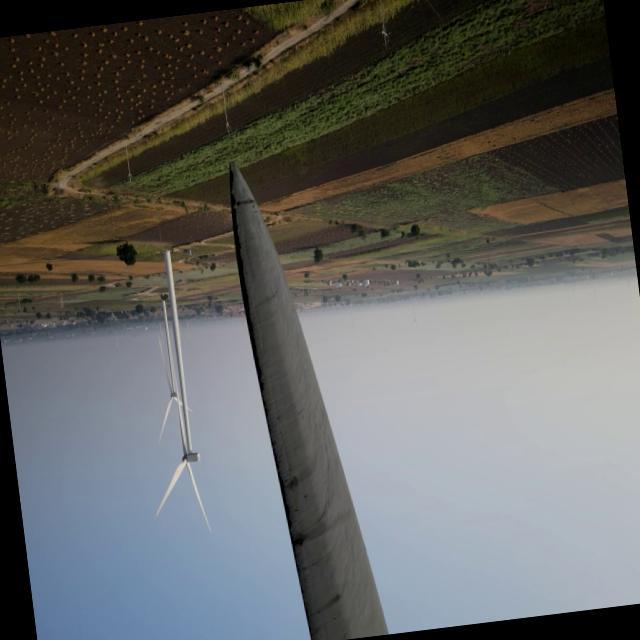Dirt: (230, 165, 389, 640)
Pin Hole: (287, 533, 307, 550), (282, 472, 299, 490), (232, 199, 245, 209)
